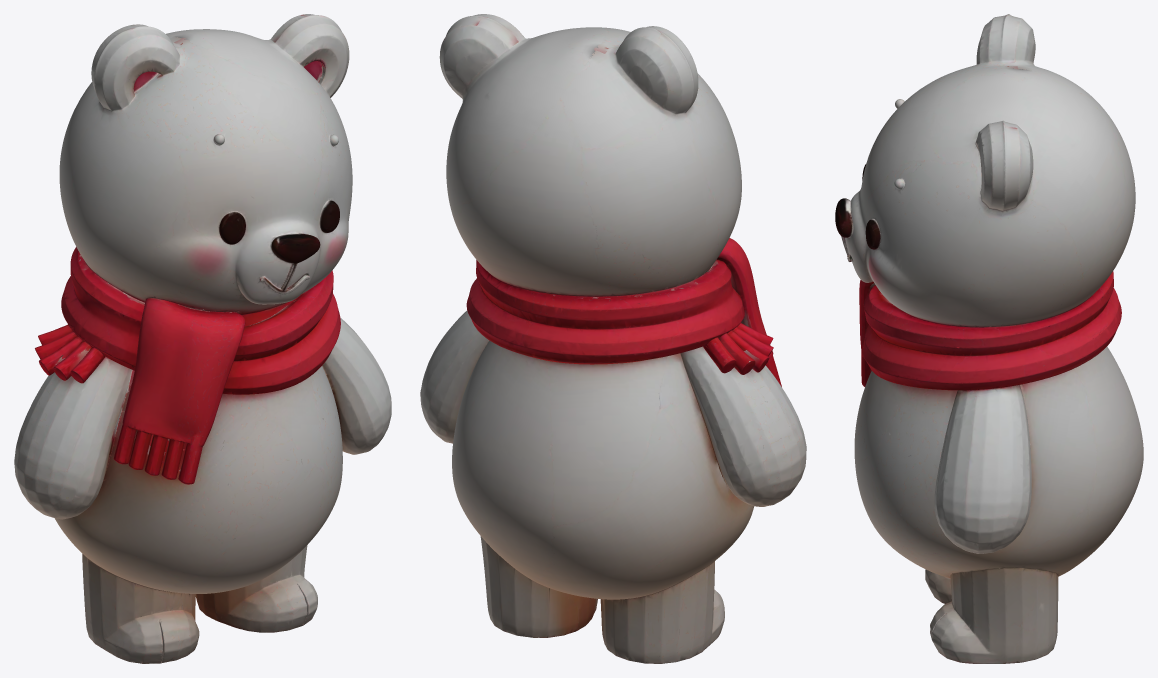
The model's file is gau-bac-cuc.glb.
3 views of the same model, side by side, from view 1: azimuth 30°, elevation 25°; view 2: azimuth 150°, elevation 25°; view 3: azimuth 270°, elevation 25° (orthographic). The views are drawn at different scales.
Parts seen in each view (by area): view 1: texture_pbr_v128; view 2: texture_pbr_v128; view 3: texture_pbr_v128.
Part boxes in pixels (x1,y1,x2,y2): texture_pbr_v128: [14, 14, 391, 663]; texture_pbr_v128: [420, 14, 806, 663]; texture_pbr_v128: [835, 14, 1143, 663].
Size of the model in its own units: 0.7123 by 1.13 by 0.5507.
Materials: 1 (1 with a texture image).
